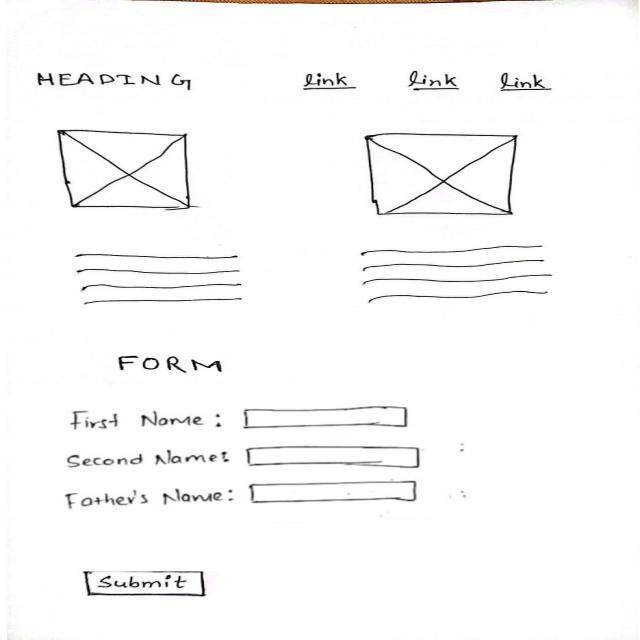textbox: (243, 482, 433, 511), (240, 404, 410, 434), (241, 445, 429, 471)
